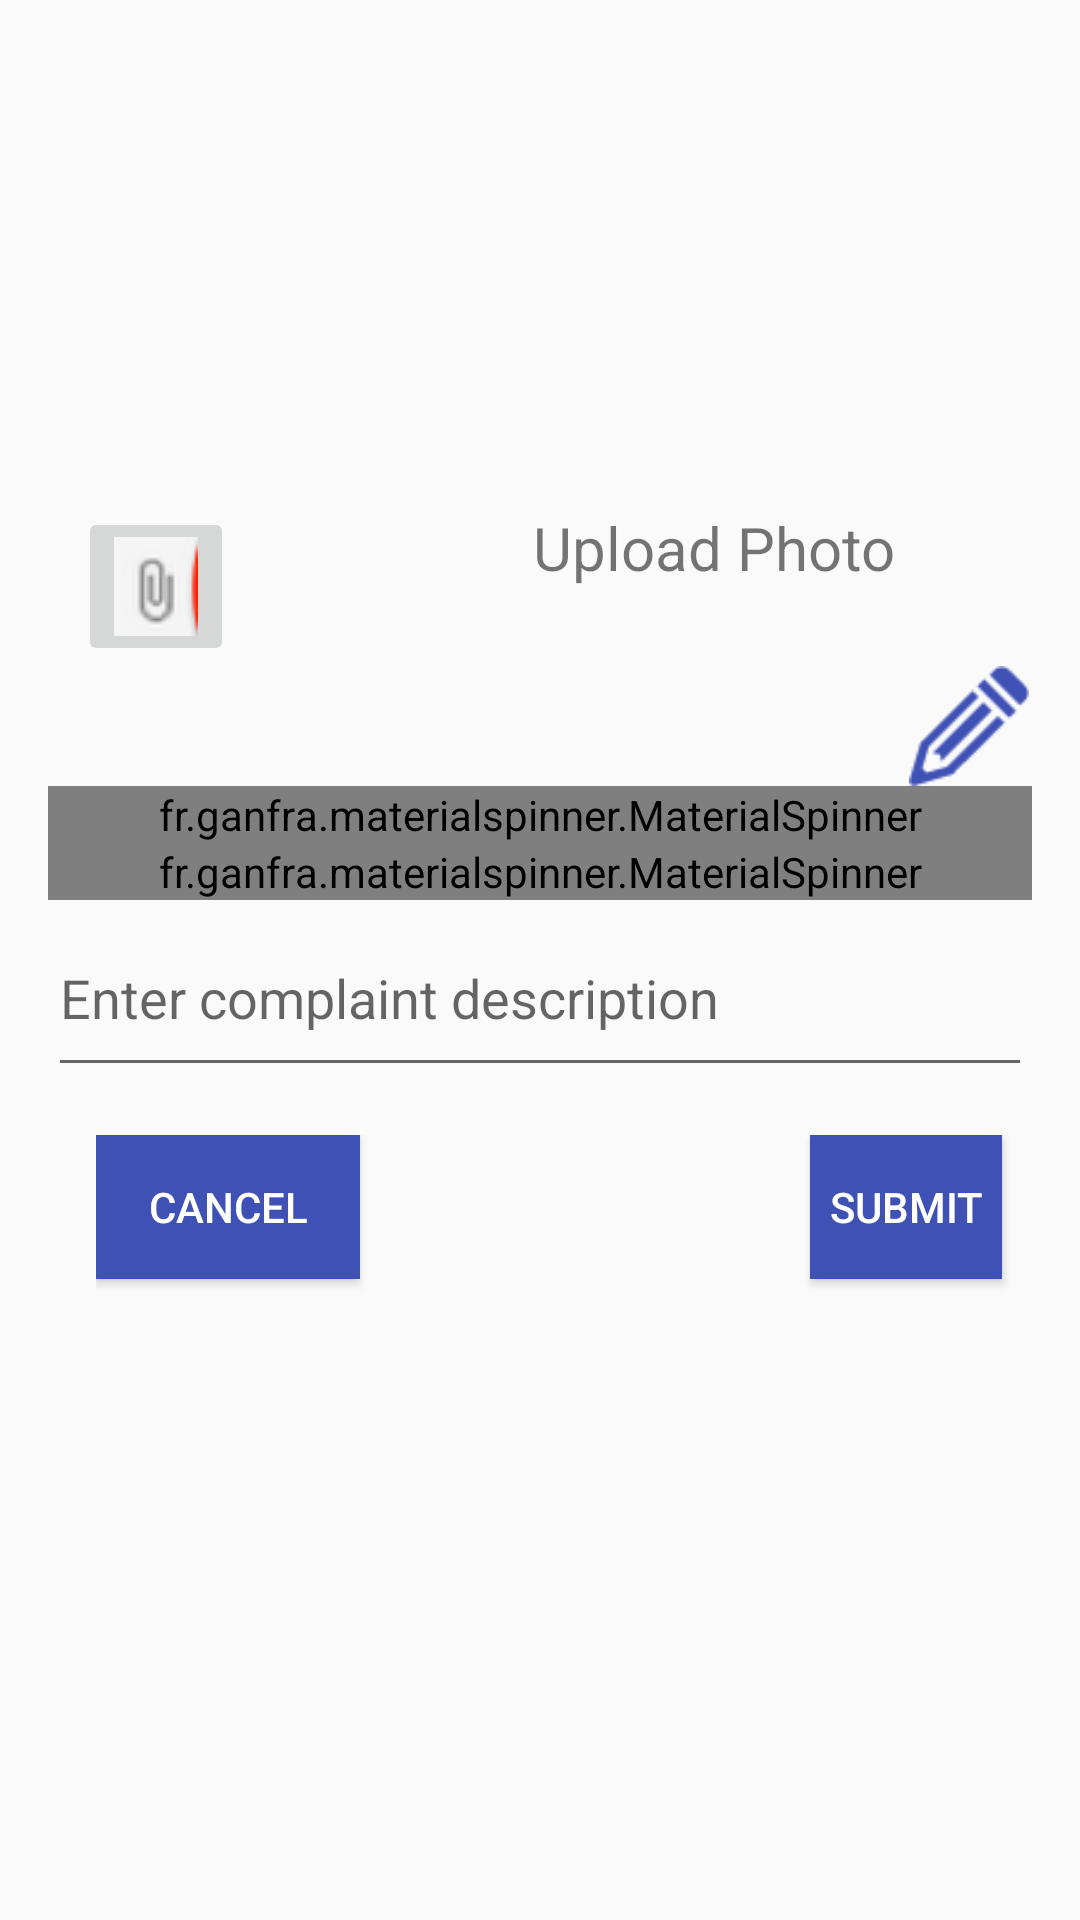

Where icons sit on this 1080 x 1920 app screen, as (x1, y1, x2, y2):
attachment: (90, 525, 222, 648)
change loction: (909, 666, 1029, 786)
